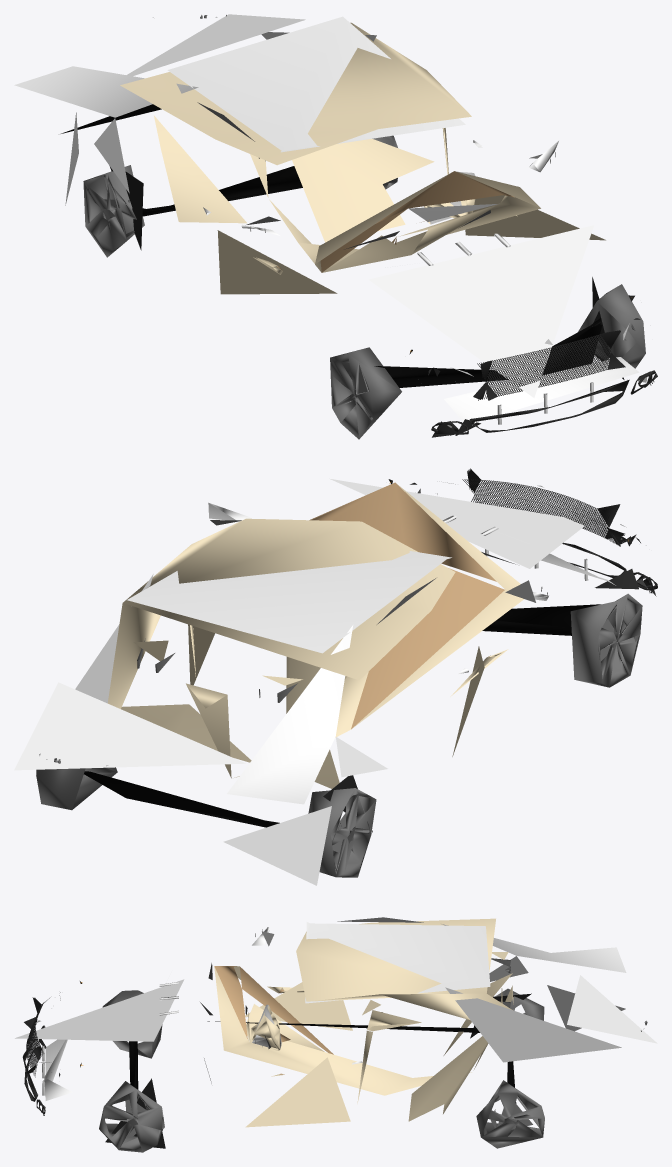
The model's file is cls_lejos.glb.
3 renders of one model, top to bottom at view 1: azimuth 30°, elevation 25°; view 2: azimuth 150°, elevation 25°; view 3: azimuth 270°, elevation 25°, orthographic. The views are drawn at different scales.
Visible parts, largest first — view 1: cls; view 2: cls; view 3: cls.
Part boxes in pixels (bbox=[...]): cls: bbox=[14, 14, 657, 439]; cls: bbox=[14, 468, 657, 885]; cls: bbox=[15, 917, 657, 1152].
Bounding box in the file's own units: 2.35 × 1.26 × 4.88.
